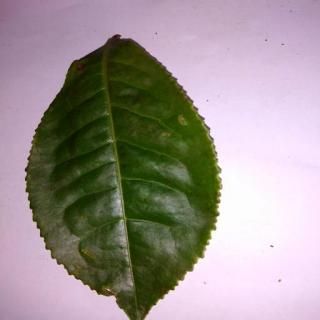Bird Eye Spot: (28, 38, 223, 320)
